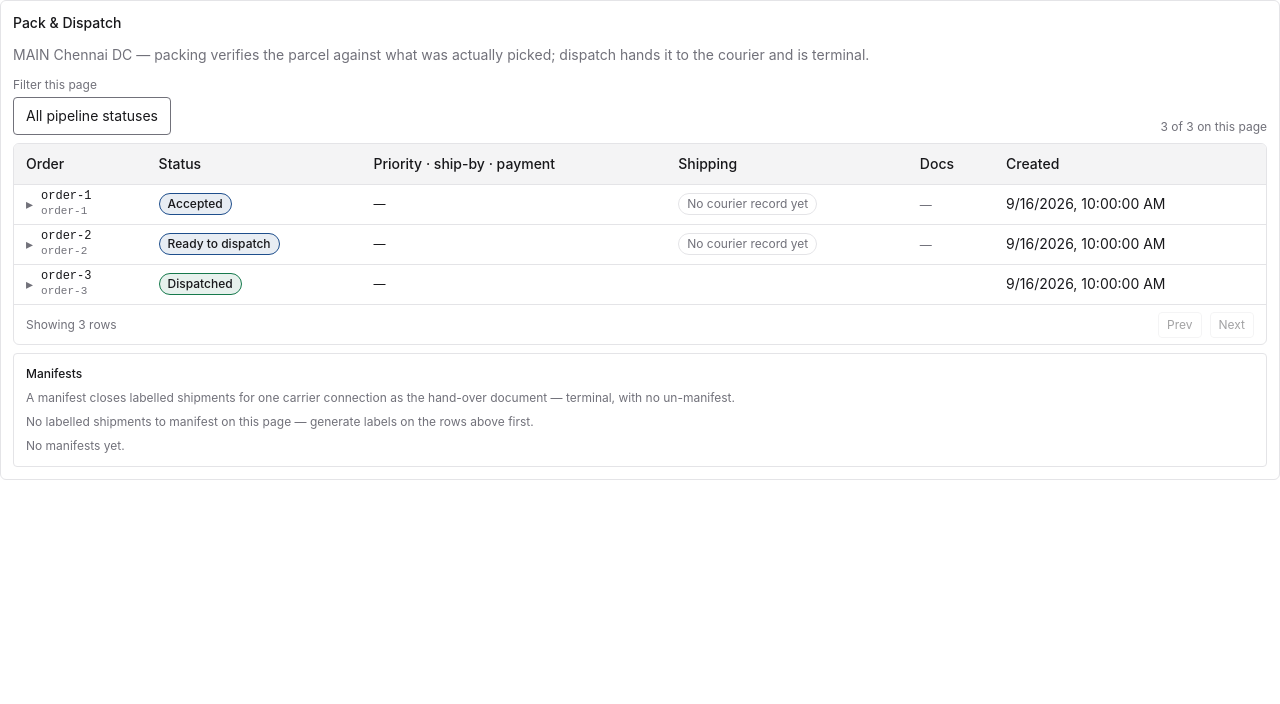
Test case: the pack bench › a not-fully-picked 409 is refused verbatim
Click the button "▸ order-1 order-1". click: (59, 204)
box: [26, 188, 92, 220]
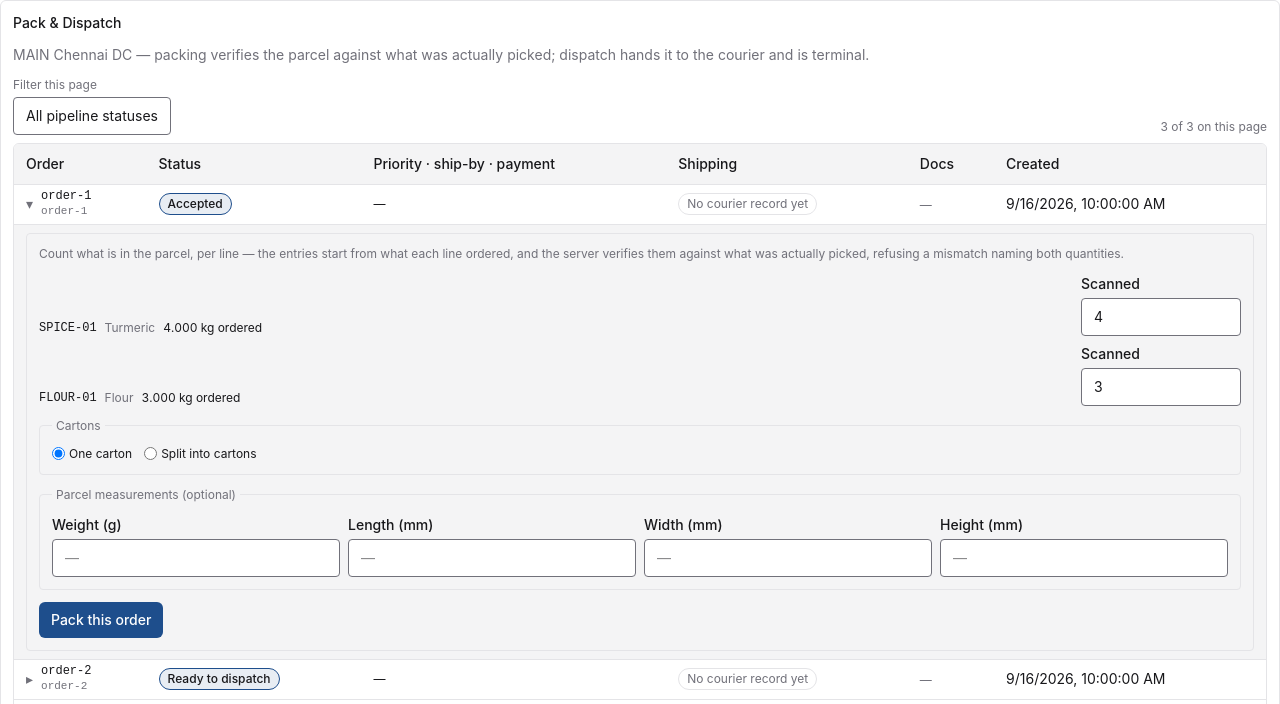
Click the button "Pack this order". click: (101, 620)
box: [39, 602, 163, 638]
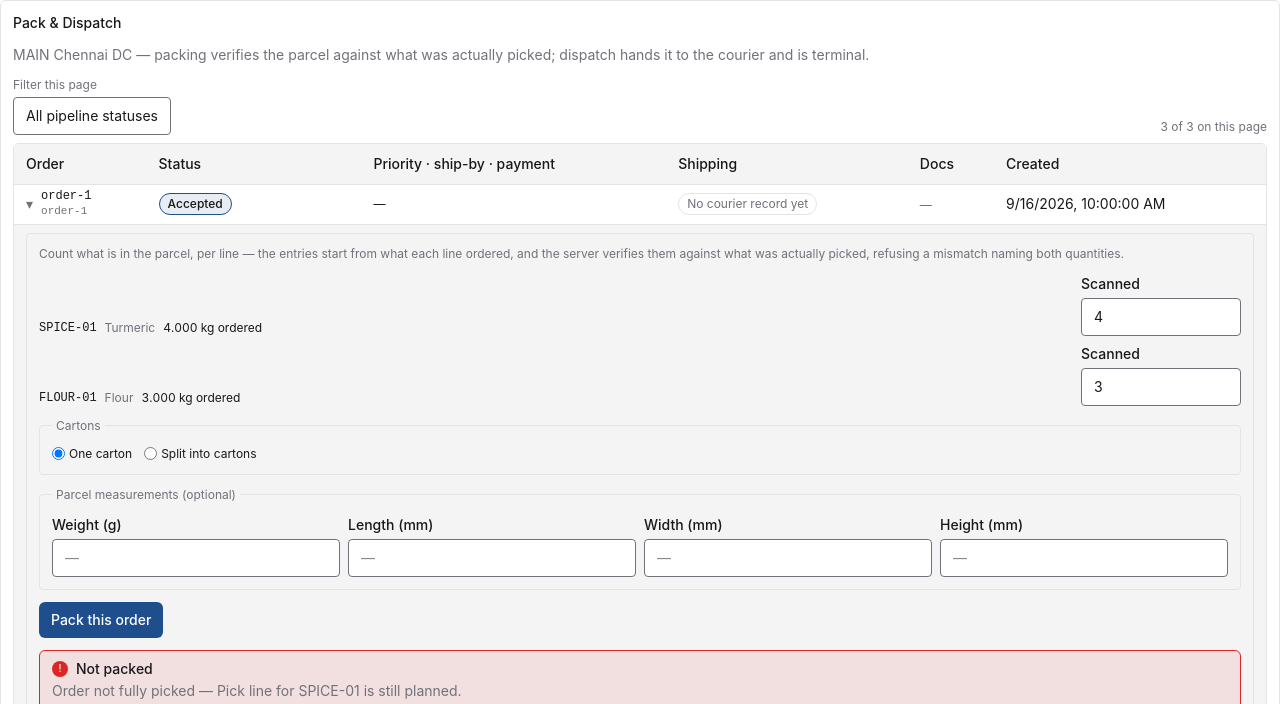
Expected: the text "Accepted" is shown, [159, 193, 232, 215]
Now the text "Order not fully picked — Pick line for SPICE-01 is still planned." is shown, box [52, 682, 462, 698]
